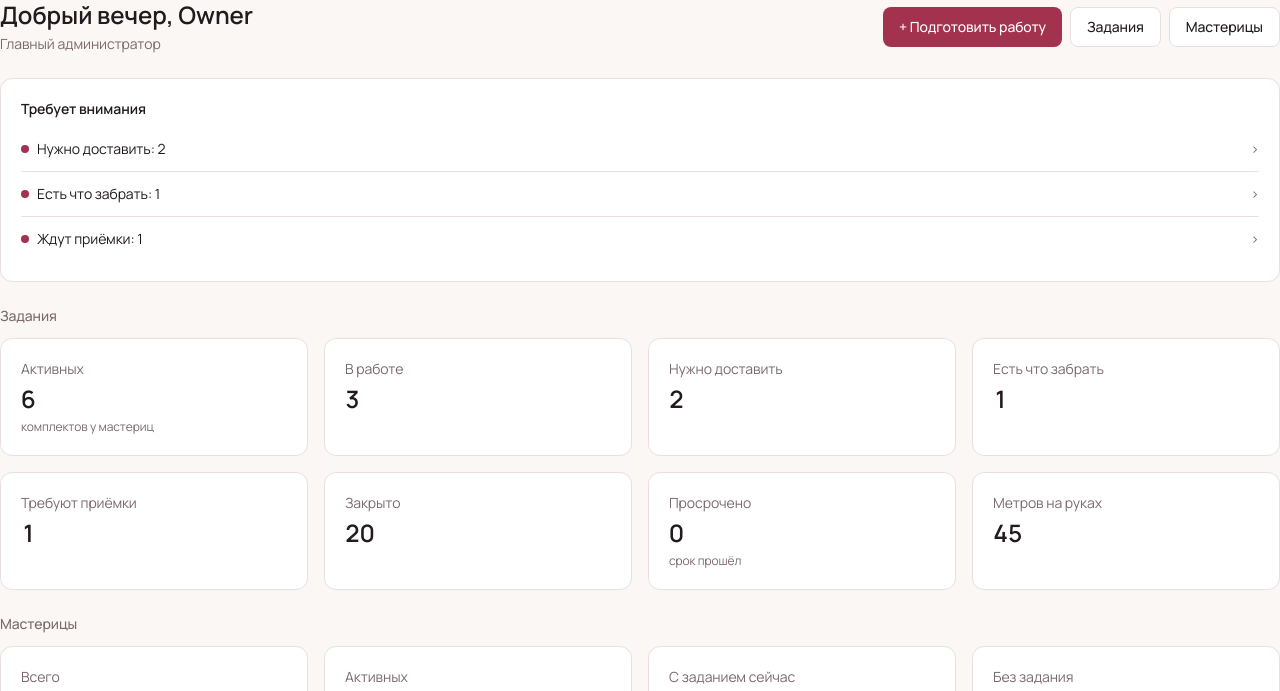
Test case: admin dashboard (§31): every card is real data, and either links to its exact filter or stays a plain stat › "Подготовить работу" opens the real create dialog for a user who may create assignments
Click the button "+ Подготовить работу" at (972, 27), box [883,7,1062,47]
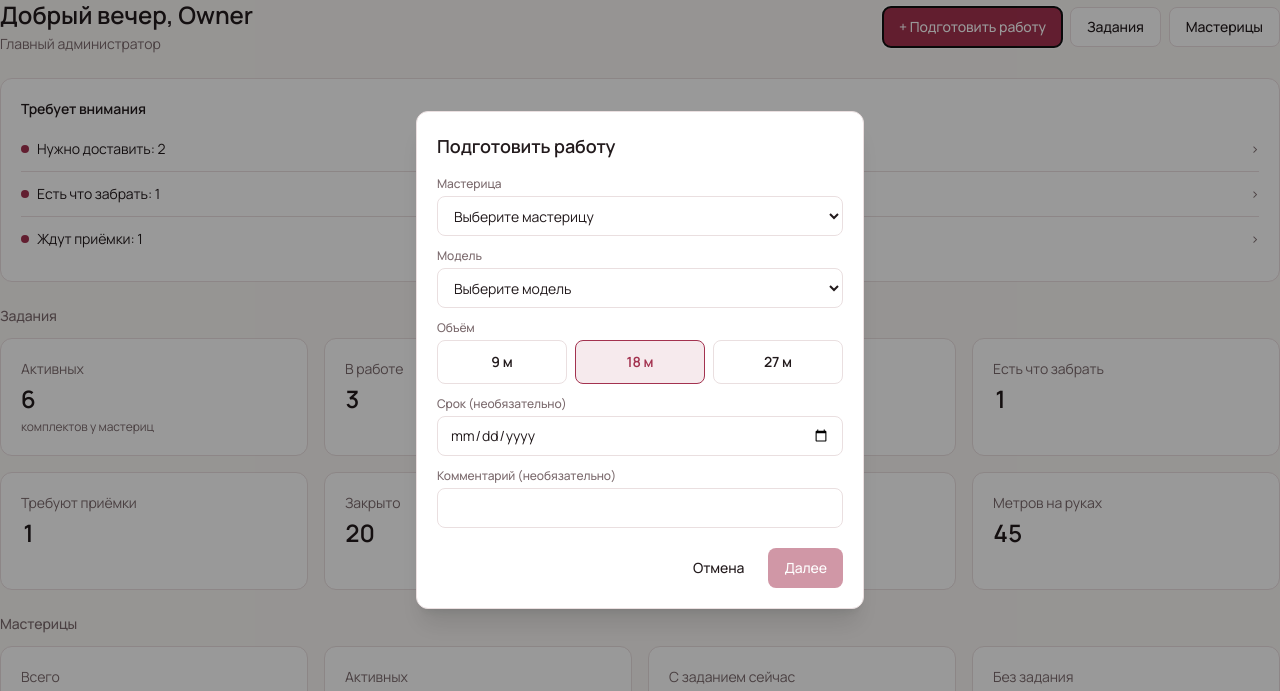
Result: the heading "Подготовить работу" is shown at [437,134,615,158]
